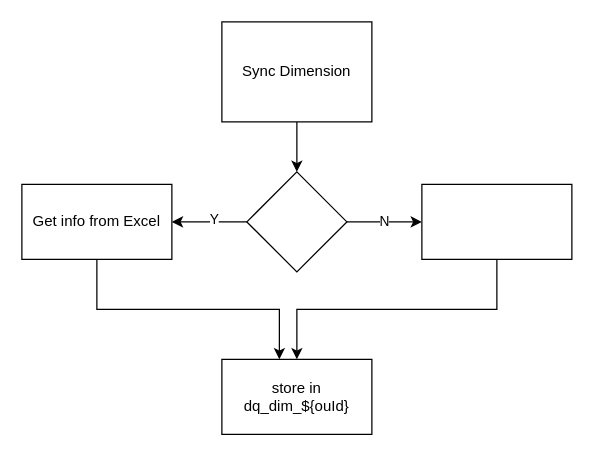
Image size: 594x456. Some labels were removed from this diagram. The shapes that lost their labels are listed below. From the top down, each one's centre as x and y in pixels, then its label:
At pixel 296 221: "excel path exists?".
At pixel 496 221: "Get info from Dev-Portal".
